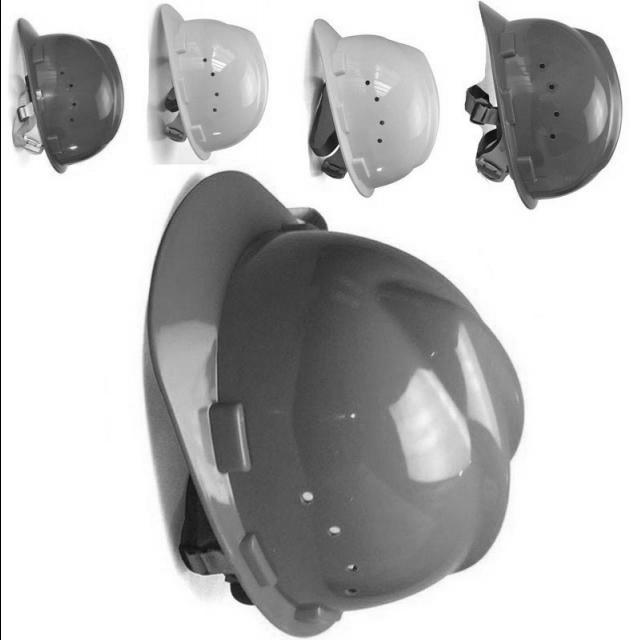construction helmet: (145, 172, 523, 639), (467, 0, 622, 210), (306, 16, 439, 198), (151, 3, 267, 162), (9, 17, 124, 175)
